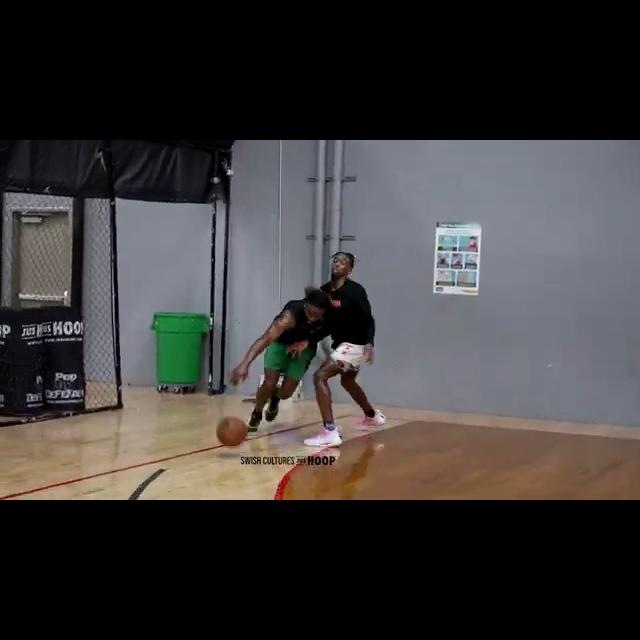basketball: (215, 415, 249, 447)
